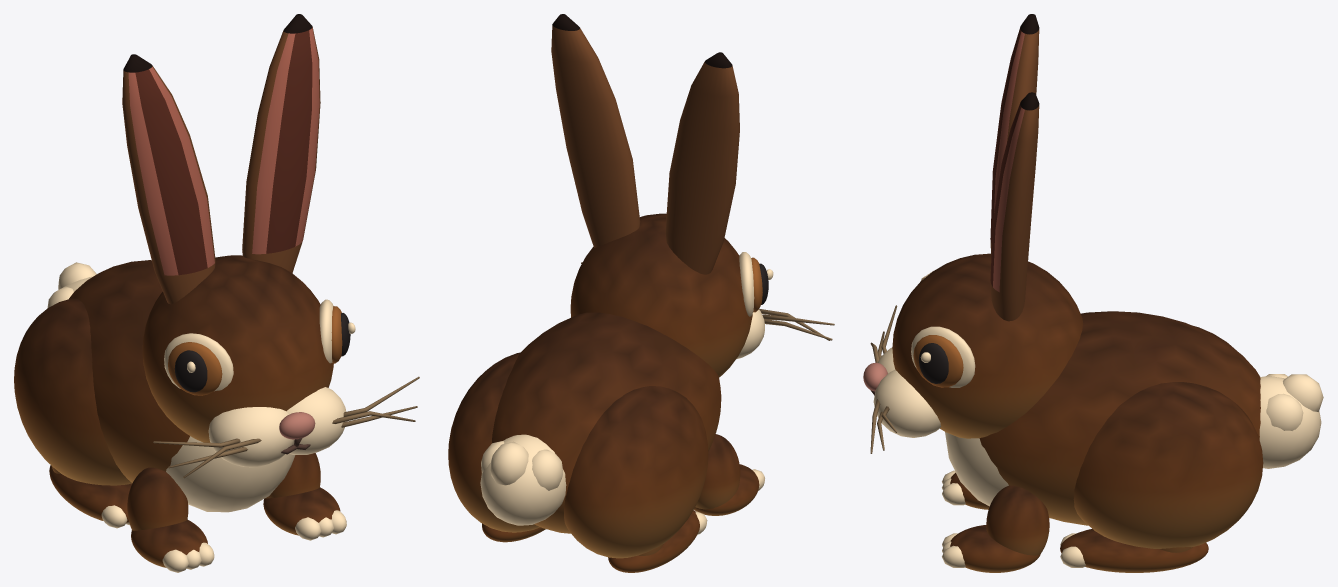
The model's file is desert-hare.glb.
3 views of the same model, side by side, from view 1: azimuth 30°, elevation 25°; view 2: azimuth 150°, elevation 25°; view 3: azimuth 270°, elevation 25° (orthographic). The views are drawn at different scales.
Parts seen in each view (by area): view 1: arched back and haunches, brow and cheeks, tipped ear.001, tipped ear, split muzzle, pale breast, forepaw, forepaw.001, hind foot, whiskers, eye rings, irises (+5 smaller); view 2: arched back and haunches, brow and cheeks, tipped ear.001, tipped ear, cotton tail, forepaw, hind foot, whiskers, eye rings, split muzzle, hind foot.001; view 3: arched back and haunches, brow and cheeks, tipped ear.001, forepaw.001, cotton tail, hind foot.001, tipped ear, split muzzle, pale breast, eye rings, irises, pupils (+1 smaller).
Boxes of the visible parts, x1,y1,x2,y2 form: arched back and haunches: (14,260,189,485); brow and cheeks: (142,255,333,442); tipped ear.001: (242,14,320,273); tipped ear: (122,54,215,304); split muzzle: (208,387,346,467); pale breast: (166,436,295,512); forepaw: (127,467,207,567); forepaw.001: (263,453,340,535); hind foot: (49,465,132,522); whiskers: (153,376,419,478); eye rings: (164,299,333,391); irises: (168,306,342,395); arched back and haunches: (448,312,721,558); brow and cheeks: (570,213,752,377); tipped ear.001: (551,14,640,247); tipped ear: (665,52,739,274); cotton tail: (480,434,566,525); forepaw: (694,434,759,515); hind foot: (608,510,699,572); whiskers: (581,262,834,340); eye rings: (739,252,754,316); split muzzle: (736,309,764,358); hind foot.001: (482,523,545,542); arched back and haunches: (979,311,1263,548); brow and cheeks: (892,253,1083,438); tipped ear.001: (990,92,1039,321); forepaw.001: (950,485,1049,572); cotton tail: (1259,374,1323,468); hind foot.001: (1060,529,1208,572); tipped ear: (990,14,1039,253); split muzzle: (873,347,941,437); pale breast: (945,432,1008,506); eye rings: (911,272,975,387); irises: (913,271,963,387); pupils: (918,343,948,383).
Size of the model in its own units: 0.8113 by 1.44 by 1.25.
